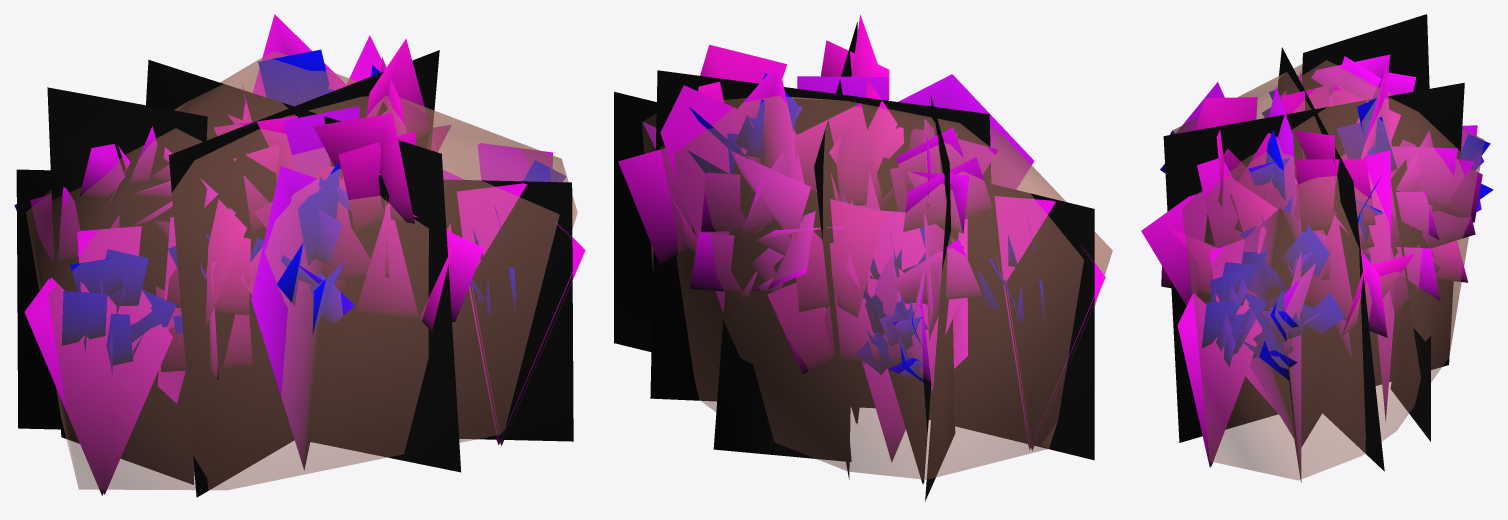
File: tree_beech_small_forest_group.dae
The picture shows the model from 3 angles, left to right: view 1: azimuth 30°, elevation 25°; view 2: azimuth 150°, elevation 25°; view 3: azimuth 270°, elevation 25°; orthographic projection. The views are drawn at different scales.
Visible parts, largest first — view 1: Colmesh_small_forest_low_group-1, beech_small_forest_low_group_a800, beech_small_forest_low_group_a500, beech_small_forest_low_group_a200; view 2: Colmesh_small_forest_low_group-1, beech_small_forest_low_group_a800, beech_small_forest_low_group_a200, beech_small_forest_low_group_a500; view 3: Colmesh_small_forest_low_group-1, beech_small_forest_low_group_a500, beech_small_forest_low_group_a800, beech_small_forest_low_group_a200.
Boxes of the visible parts, <box> form: Colmesh_small_forest_low_group-1: <box>26,51,577,490</box>; beech_small_forest_low_group_a800: <box>14,14,582,494</box>; beech_small_forest_low_group_a500: <box>24,35,585,497</box>; beech_small_forest_low_group_a200: <box>16,169,573,441</box>; Colmesh_small_forest_low_group-1: <box>642,96,1112,479</box>; beech_small_forest_low_group_a800: <box>618,15,1103,501</box>; beech_small_forest_low_group_a200: <box>614,45,1094,461</box>; beech_small_forest_low_group_a500: <box>739,95,1105,483</box>; Colmesh_small_forest_low_group-1: <box>1172,60,1484,480</box>; beech_small_forest_low_group_a500: <box>1176,14,1482,471</box>; beech_small_forest_low_group_a800: <box>1141,72,1493,482</box>; beech_small_forest_low_group_a200: <box>1243,54,1424,417</box>.
Bounding box in the file's own units: 19.34 × 12.69 × 14.17.
